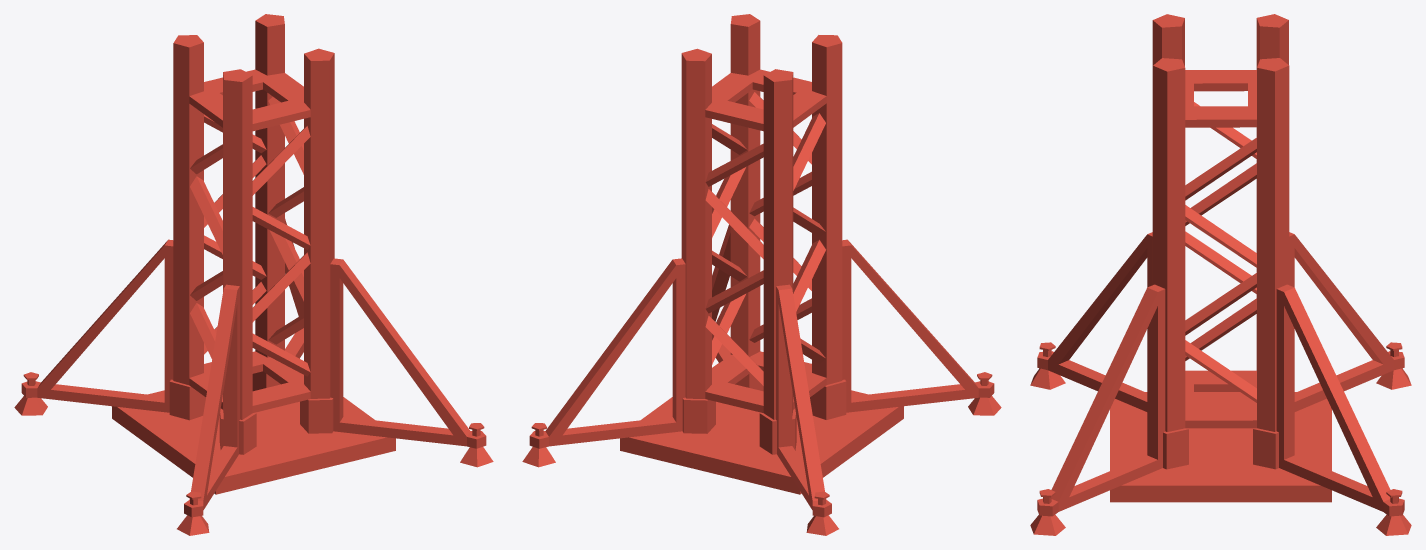
Rendered from SM_Truss_Steel_Base.fbx.
3 renders of one model, left to right at view 1: azimuth 30°, elevation 25°; view 2: azimuth 150°, elevation 25°; view 3: azimuth 270°, elevation 25°, orthographic. The views are drawn at different scales.
Visible parts, largest first — view 1: SM_Truss_Steel_Base; view 2: SM_Truss_Steel_Base; view 3: SM_Truss_Steel_Base.
Boxes of the visible parts, x1,y1,x2,y2 form: SM_Truss_Steel_Base: (14, 14, 493, 535); SM_Truss_Steel_Base: (522, 14, 1001, 535); SM_Truss_Steel_Base: (1030, 14, 1411, 535).
Size of the model in its own units: 83.79 by 83.79 by 100.
